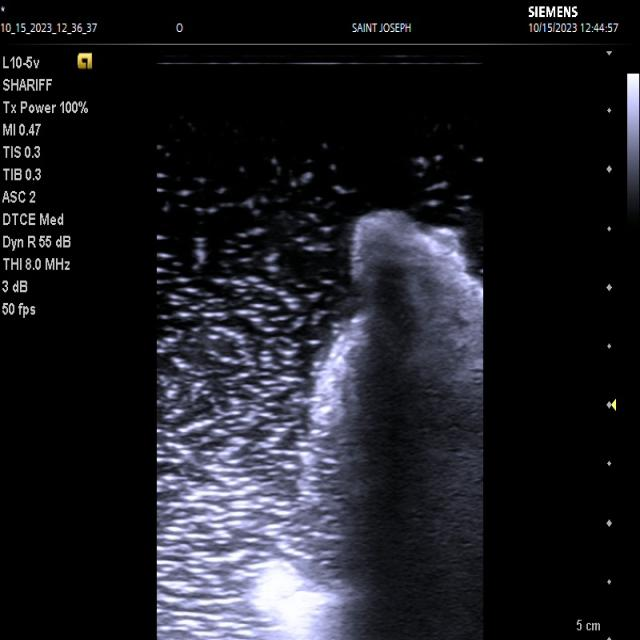tissue: (255, 210, 485, 640)
